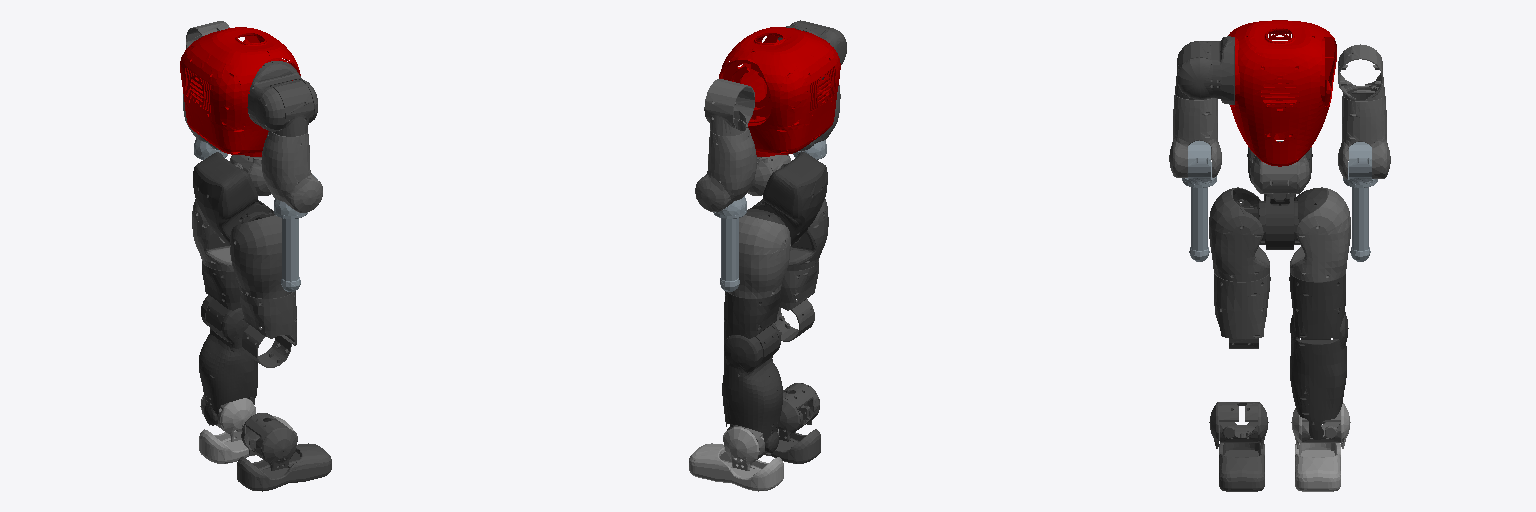
--- Render facts (derived) ---
Views: 3 orthographic renders of the robot side by side, from view 1: azimuth 30°, elevation 25°; view 2: azimuth 150°, elevation 25°; view 3: azimuth 270°, elevation 25°.
Model COMAN with 46 links and 45 joints (23 revolute, 22 fixed), rooted at base_link, posed every joint at zero.
Links seen in each view (by area): view 1: DWYTorso, LLowLeg, Waist, RFoot, RThighUpLeg, RShy, RThighLowLeg, RShp, LFoot, LThighLowLeg, RShr, RElb (+2 smaller); view 2: DWYTorso, LLowLeg, LFoot, Waist, LThighUpLeg, LShy, LThighLowLeg, LShr, RFoot, RThighLowLeg, LElb, RThighUpLeg (+3 smaller); view 3: DWYTorso, LLowLeg, RThighUpLeg, LThighUpLeg, RThighLowLeg, LShy, LThighLowLeg, RShy, RFoot, RShp, LFoot, RElb (+9 smaller).
Boxes of the visible links, x1=… form: DWYTorso: x1=180, y1=27, x2=300, y2=156; LLowLeg: x1=199, y1=295, x2=257, y2=425; Waist: x1=193, y1=152, x2=274, y2=245; RFoot: x1=237, y1=413, x2=331, y2=491; RThighUpLeg: x1=230, y1=215, x2=291, y2=298; RShy: x1=261, y1=129, x2=322, y2=212; RThighLowLeg: x1=239, y1=288, x2=296, y2=367; RShp: x1=247, y1=61, x2=317, y2=131; LFoot: x1=199, y1=395, x2=293, y2=463; LThighLowLeg: x1=202, y1=262, x2=240, y2=338; RShr: x1=270, y1=79, x2=313, y2=136; RElb: x1=274, y1=174, x2=317, y2=291; DWYTorso: x1=719, y1=27, x2=840, y2=156; LLowLeg: x1=722, y1=324, x2=782, y2=452; LFoot: x1=689, y1=427, x2=783, y2=491; Waist: x1=750, y1=152, x2=827, y2=245; LThighUpLeg: x1=729, y1=215, x2=790, y2=298; LShy: x1=695, y1=120, x2=756, y2=211; LThighLowLeg: x1=724, y1=290, x2=780, y2=364; LShr: x1=704, y1=79, x2=754, y2=135; RFoot: x1=727, y1=383, x2=820, y2=463; RThighLowLeg: x1=773, y1=261, x2=818, y2=341; LElb: x1=713, y1=196, x2=746, y2=291; RThighUpLeg: x1=787, y1=199, x2=828, y2=270; DWYTorso: x1=1228, y1=20, x2=1336, y2=166; LLowLeg: x1=1290, y1=312, x2=1348, y2=439; RThighUpLeg: x1=1209, y1=187, x2=1269, y2=281; LThighUpLeg: x1=1290, y1=187, x2=1350, y2=281; RThighLowLeg: x1=1214, y1=273, x2=1270, y2=348; LShy: x1=1338, y1=86, x2=1390, y2=178; LThighLowLeg: x1=1289, y1=273, x2=1345, y2=339; RShy: x1=1169, y1=94, x2=1221, y2=177; RFoot: x1=1209, y1=402, x2=1268, y2=491; RShp: x1=1177, y1=36, x2=1234, y2=104; LFoot: x1=1291, y1=403, x2=1350, y2=491; RElb: x1=1182, y1=141, x2=1216, y2=261.
Size in the robot's own frame: 0.2484 by 0.4296 by 0.9267 metres.
21 mesh visuals loaded from 23 distinct referenced files (20 Collada DAE); not drawn: 3 (reference not matched to a file when rendering).

robot.urdf — COMAN:
<?xml version="1.0" ?>
<!-- =================================================================================== -->
<!-- |    This document was autogenerated by xacro from coman.urdf.xacro               | -->
<!-- |    EDITING THIS FILE BY HAND IS NOT RECOMMENDED                                 | -->
<!-- =================================================================================== -->
<robot name="COMAN" xmlns:xacro="http://ros.org/wiki/xacro">
  <!-- 
  ROS urdf definition of the COMAN humanoid robot by Istituto Italiano di Tecnologia
  
  DO NOT INCLUDE THIS FILE DIRECTLY! USE coman_robot.urdf.xacro INSTEAD!

  Author: Enrico Mingo & Alessio Rocchi

  Inertial matrix has to be in CoM frame (URDF specs)

  Velocity and effort limits are fake!
-->
  <!-- ************ MODEL CONFIGURATION ************ -->
  <!-- ******************** FAKE LINKS ******************** -->
  <!-- This links are defined in order to be compliant with http://www.ros.org/reps/rep-0120.html#coordinate-frames
and to define the end effectors of the robot -->
  <!-- The coordinate frame called base_link is rigidly attached to the robot root body. It is recommended to choose the robot waist as its root body. The base_link can be attached to the root in any arbitrary position or orientation; for every hardware platform there will be a different place on the base that provides an obvious point of reference. Note that REP 103 [1] specifies a preferred orientation for frames. -->
  <link name="base_link"/>
  <!-- position and orientation of the arm regardless of the tool (grasping device for instance) attached to it -->
  <link name="l_wrist"/>
  <link name="r_wrist"/>
  <!--  position and orientation of the leg regardless of the support body geometry -->
  <link name="l_ankle"/>
  <link name="r_ankle"/>
  <!-- position and orientation of the left leg support body. The (X,Y) plane of this frame must be coplanar with the support body contact surface. It is recommended to choose the origin as the projection of the support body origin on the contact surface. The Z coordinate of this frame should be on the ground level when standing. -->
  <link name="l_sole"/>
  <link name="r_sole"/>
  <!--  position and orientation of the leg toe body. The (X,Y) plan of this frame must be coplanar with the toe body contact surface. It is recommended to choose the origin as the projection of the body center on the contact surface. -->
  <link name="l_toe"/>
  <link name="r_toe"/>
  <!-- The coordinate frame called torso is attached to the lowest body of the model which is a parent of l_gripper, r_gripper and gaze. -->
  <link name="torso"/>
  <!-- Reference frames in feet -->
  <link name="l_foot_upper_right_link"/>
  <joint name="l_foot_upper_right_joint" type="fixed">
    <origin rpy="0 0 0" xyz="0.13 -0.05 0"/>
    <parent link="l_sole"/>
    <child link="l_foot_upper_right_link"/>
  </joint>
  <link name="l_foot_upper_left_link"/>
  <joint name="l_foot_upper_left_joint" type="fixed">
    <origin rpy="0 0 0" xyz="0.13 0.05 0"/>
    <parent link="l_sole"/>
    <child link="l_foot_upper_left_link"/>
  </joint>
  <link name="l_foot_lower_right_link"/>
  <joint name="l_foot_lower_right_joint" type="fixed">
    <origin rpy="0 0 0" xyz="-0.07 -0.05 0"/>
    <parent link="l_sole"/>
    <child link="l_foot_lower_right_link"/>
  </joint>
  <link name="l_foot_lower_left_link"/>
  <joint name="l_foot_lower_left_joint" type="fixed">
    <origin rpy="0 0 0" xyz="-0.07 0.05 0"/>
    <parent link="l_sole"/>
    <child link="l_foot_lower_left_link"/>
  </joint>
  <link name="r_foot_upper_right_link"/>
  <joint name="r_foot_upper_right_joint" type="fixed">
    <origin rpy="0 0 0" xyz="0.13 -0.05 0"/>
    <parent link="r_sole"/>
    <child link="r_foot_upper_right_link"/>
  </joint>
  <link name="r_foot_upper_left_link"/>
  <joint name="r_foot_upper_left_joint" type="fixed">
    <origin rpy="0 0 0" xyz="0.13 0.05 0"/>
    <parent link="r_sole"/>
    <child link="r_foot_upper_left_link"/>
  </joint>
  <link name="r_foot_lower_right_link"/>
  <joint name="r_foot_lower_right_joint" type="fixed">
    <origin rpy="0 0 0" xyz="-0.07 -0.05 0"/>
    <parent link="r_sole"/>
    <child link="r_foot_lower_right_link"/>
  </joint>
  <link name="r_foot_lower_left_link"/>
  <joint name="r_foot_lower_left_joint" type="fixed">
    <origin rpy="0 0 0" xyz="-0.07 0.05 0"/>
    <parent link="r_sole"/>
    <child link="r_foot_lower_left_link"/>
  </joint>
  <!-- Head -->
  <link name="gaze"/>
  <!-- ************ COMAN BASE ************** -->
  <link name="Waist">
    <inertial>
      <origin rpy="0 0 0" xyz="-0.026391145 -5.8216364E-4 0.052632312"/>
      <mass value="1.8008695"/>
      <inertia ixx="0.0051032982" ixy="-5.7170981E-5" ixz="0.0016920543" iyy="0.006241636" iyz="1.7225949E-5" izz="0.0024517762"/>
    </inertial>
    <visual>
      <origin rpy="0 0 -3.14159265359" xyz="0 0 -0.52"/>
      <geometry name="Waist_visual">
        <mesh filename="package://coman_urdf/meshes/collada/asm0001_collada_07_prt.dae" scale="0.03937 0.03937 0.03937"/>
      </geometry>
    </visual>
    <collision>
      <origin rpy="0 0 -3.14159265359" xyz="0 0 -0.52"/>
      <geometry name="Waist_collision">
        <mesh filename="package://coman_urdf/meshes/collada/simple/simple_asm0001_collada_07_prt.stl" scale="0.03937 0.03937 0.03937"/>
      </geometry>
    </collision>
  </link>
  <link name="DWL">
    <inertial>
      <origin rpy="0 0 0" xyz="4.2999707E-4 -0.0097650317 0.033011157"/>
      <mass value="0.54588774"/>
      <inertia ixx="9.7126578E-4" ixy="-7.2101244E-7" ixz="1.1440119E-6" iyy="7.4686706E-4" iyz="-1.7450917E-4" izz="6.2196235E-4"/>
    </inertial>
    <visual>
      <origin rpy="0 0 -3.14159265359" xyz="-0.020281504 0 -0.63912053"/>
      <geometry name="DWL_visual">
        <mesh filename="package://coman_urdf/meshes/collada/asm0001_collada_09_prt.dae" scale="0.03937 0.03937 0.03937"/>
      </geometry>
    </visual>
    <collision>
      <origin rpy="0 0 -3.14159265359" xyz="-0.020281504 0 -0.63912053"/>
      <geometry name="DWL_collision">
        <mesh filename="package://coman_urdf/meshes/collada/simple/simple_asm0001_collada_09_prt.stl" scale="0.03937 0.03937 0.03937"/>
      </geometry>
    </collision>
  </link>
  <link name="DWS">
    <inertial>
      <origin rpy="0 0 0" xyz="-0.0021273416 0.0033575235 -0.0010076896"/>
      <mass value="0.75398402"/>
      <inertia ixx="3.4093348E-4" ixy="-6.2120042E-6" ixz="-1.3863473E-6" iyy="3.9581916E-4" iyz="1.443019E-6" izz="3.7449753E-4"/>
    </inertial>
    <visual>
      <origin rpy="0 0 -3.14159265359" xyz="-0.020281504 0 -0.63912053"/>
      <geometry name="DWS_visual">
        <mesh filename="package://coman_urdf/meshes/collada/asm0001_collada_08_prt.dae" scale="0.03937 0.03937 0.03937"/>
      </geometry>
    </visual>
    <collision>
      <origin rpy="0 0 -3.14159265359" xyz="-0.020281504 0 -0.63912053"/>
      <geometry name="DWS_collision">
        <mesh filename="package://coman_urdf/meshes/collada/simple/simple_asm0001_collada_08_prt.stl" scale="0.03937 0.03937 0.03937"/>
      </geometry>
    </collision>
  </link>
  <link name="DWYTorso">
    <inertial>
      <origin rpy="0 0 0" xyz="-0.0358501 1.8286043E-5 0.117557148"/>
      <mass value="6.3617175"/>
      <inertia ixx="0.034089342" ixy="-9.8308572E-6" ixz="-7.5649290E-4" iyy="0.030117357" iyz="6.2443771E-6" izz="0.025296582"/>
    </inertial>
    <visual>
      <origin rpy="0 0 -3.14159265359" xyz="-0.020281504 0.0 -0.68662053"/>
      <geometry name="DWYTorso_visual">
        <mesh filename="package://coman_urdf/meshes/collada/asm0001_collada_10_prt.dae" scale="0.03937 0.03937 0.03937"/>
      </geometry>
    </visual>
    <collision>
      <origin rpy="0 0 -3.14159265359" xyz="-0.020281504 0.0 -0.68662053"/>
      <geometry name="DWYTorso_collision">
        <mesh filename="package://coman_urdf/meshes/collada/simple/simple_asm0001_collada_10_prt.stl" scale="0.03937 0.03937 0.03937"/>
      </geometry>
    </collision>
  </link>
  <link name="RHipMot">
    <inertial>
      <origin rpy="0 0 0" xyz="-3.269678E-4 -0.023587321 -2.6496509E-4"/>
      <mass value="0.89258227"/>
      <inertia ixx="4.7672294E-4" ixy="-3.9936567E-6" ixz="-2.4802574E-6" iyy="5.458038E-4" iyz="-3.3389575E-6" izz="5.126859E-4"/>
    </inertial>
    <visual>
      <origin rpy="0 0 -3.14159265359" xyz="0.0 0.023 -0.52"/>
      <geometry name="RHipMot_visual">
        <mesh filename="package://coman_urdf/meshes/collada/asm0001_collada_20_prt.dae" scale="0.03937 0.03937 0.03937"/>
      </geometry>
    </visual>
    <collision>
      <origin rpy="0 0 -3.14159265359" xyz="0.0 0.023 -0.52"/>
      <geometry name="RHipMot_collision">
        <mesh filename="package://coman_urdf/meshes/collada/simple/simple_asm0001_collada_20_prt.stl" scale="0.03937 0.03937 0.03937"/>
      </geometry>
    </collision>
  </link>
  <link name="RThighUpLeg">
    <inertial>
      <origin rpy="0 0 0" xyz="0.0012591632 -0.016896372 -0.058903336"/>
      <mass value="1.0246101"/>
      <inertia ixx="9.165719E-4" ixy="-1.4449904E-6" ixz="-1.6685011E-5" iyy="0.00104849584" iyz="2.5492874E-5" izz="6.8637197E-4"/>
    </inertial>
    <visual>
      <origin rpy="0 0 -3.14159265359" xyz="0.0 0.0726 -0.52"/>
      <geometry name="RThighUpLeg_visual">
        <mesh filename="package://coman_urdf/meshes/collada/asm0001_collada_19_prt.dae" scale="0.03937 0.03937 0.03937"/>
      </geometry>
    </visual>
    <collision>
      <origin rpy="0 0 -3.14159265359" xyz="0.0 0.0726 -0.52"/>
      <geometry name="RThighUpLeg_collision">
        <mesh filename="package://coman_urdf/meshes/collada/simple/simple_asm0001_collada_19_prt.stl" scale="0.03937 0.03937 0.03937"/>
      </geometry>
    </collision>
  </link>
  <link name="RThighLowLeg">
    <inertial>
      <origin rpy="0 0 0" xyz="9.8720058E-4 6.7037262E-4 -0.075716843"/>
      <mass value="1.7001134"/>
      <inertia ixx="0.0038979546" ixy="1.7802399E-6" ixz="2.6403262E-5" iyy="0.0039360845" iyz="4.522711E-5" izz="9.0218711E-4"/>
    </inertial>
    <visual>
      <origin rpy="0 0 -3.14159265359" xyz="0.0 0.0726 -0.4176"/>
      <geometry name="RThighLowLeg_visual">
        <mesh filename="package://coman_urdf/meshes/collada/asm0001_collada_18_prt.dae" scale="0.03937 0.03937 0.03937"/>
      </geometry>
    </visual>
    <collision>
      <origin rpy="0 0 -3.14159265359" xyz="0.0 0.0726 -0.4176"/>
      <geometry name="RThighLowLeg_collision">
        <mesh filename="package://coman_urdf/meshes/collada/simple/simple_asm0001_collada_18_prt.stl" scale="0.03937 0.03937 0.03937"/>
      </geometry>
    </collision>
  </link>
  <link name="RLowLeg">
    <inertial>
      <origin rpy="0 0 0" xyz="0.0024612666 -0.0053099614 -0.08598948"/>
      <mass value="1.4098179"/>
      <inertia ixx="0.0040604004" ixy="1.1227206E-5" ixz="1.2260973E-5" iyy="0.004005652855" iyz="5.1899176E-4" izz="0.0012414054"/>
    </inertial>
    <visual>
      <origin rpy="0 0 -3.14159265359" xyz="0.0 0.0726 -0.2942"/>
      <geometry name="RLowLeg_visual">
        <mesh filename="package://coman_urdf/meshes/collada/asm0001_collada_17_prt.dae" scale="0.03937 0.03937 0.03937"/>
      </geometry>
    </visual>
    <collision>
      <origin rpy="0 0 -3.14159265359" xyz="0.0 0.0726 -0.2942"/>
      <geometry name="RLowLeg_collision">
        <mesh filename="package://coman_urdf/meshes/collada/simple/simple_asm0001_collada_17_prt.stl" scale="0.03937 0.03937 0.03937"/>
      </geometry>
    </collision>
  </link>
  <link name="RFootmot">
    <inertial>
      <origin rpy="0 0 0" xyz="8.8067281E-4 -9.2224881E-4 2.3038476E-4"/>
      <mass value="0.72992131"/>
      <inertia ixx="3.2034425E-4" ixy="7.6346303E-6" ixz="2.5430158E-7" iyy="3.6584358E-4" iyz="-3.6889276E-6" izz="3.6065156E-4"/>
    </inertial>
    <visual>
      <origin rpy="0 0 -3.14159265359" xyz="0.0 0.0726 -0.0932"/>
      <geometry name="RFootmot_visual">
        <mesh filename="package://coman_urdf/meshes/collada/asm0001_collada_16_prt.dae" scale="0.03937 0.03937 0.03937"/>
      </geometry>
    </visual>
    <collision>
      <origin rpy="0 0 -3.14159265359" xyz="0.0 0.0726 -0.0932"/>
      <geometry name="RFootmot_collision">
        <mesh filename="package://coman_urdf/meshes/collada/simple/simple_asm0001_collada_16_prt.stl" scale="0.03937 0.03937 0.03937"/>
      </geometry>
    </collision>
  </link>
  <link name="RFoot">
    <inertial>
      <origin rpy="0 0 0" xyz="0.00969210464 -0.0090460227 -0.043062308"/>
      <mass value="0.66646684"/>
      <inertia ixx="0.0012944808" ixy="-9.2387693E-5" ixz="2.0080105E-4" iyy="0.0015851846" iyz="2.7599327E-4" izz="0.0013326766"/>
    </inertial>
    <visual>
      <origin rpy="0 0 -3.14159265359" xyz="0.0 0.0726 -0.0932"/>
      <geometry name="RFoot_visual">
        <mesh filename="package://coman_urdf/meshes/collada/asm0001_collada_15_prt.dae" scale="0.03937 0.03937 0.03937"/>
      </geometry>
    </visual>
    <collision>
      <origin rpy="0 0 -3.14159265359" xyz="0.0 0.0726 -0.0932"/>
      <geometry name="RFoot_collision">
        <mesh filename="package://coman_urdf/meshes/collada/simple/simple_asm0001_collada_15_prt.stl" scale="0.03937 0.03937 0.03937"/>
      </geometry>
    </collision>
  </link>
  <link name="LHipMot">
    <inertial>
      <origin rpy="0 0 0" xyz="-3.269678E-4 0.023587321 -2.6496509E-4"/>
      <mass value="0.89258227"/>
      <inertia ixx="4.7672294E-4" ixy="3.9936567E-6" ixz="-2.4802574E-6" iyy="5.458038E-4" iyz="3.3389575E-6" izz="5.126859E-4"/>
    </inertial>
    <visual>
      <origin rpy="0 0 -3.14159265359" xyz="0.0 -0.023 -0.52"/>
      <geometry name="RHipMot_visual">
        <mesh filename="package://coman_urdf/meshes/collada/asm0001_collada_06_prt.dae" scale="0.03937 0.03937 0.03937"/>
      </geometry>
    </visual>
    <collision>
      <origin rpy="0 0 -3.14159265359" xyz="0.0 -0.023 -0.52"/>
      <geometry name="RHipMot_collision">
        <mesh filename="package://coman_urdf/meshes/collada/simple/simple_asm0001_collada_06_prt.stl" scale="0.03937 0.03937 0.03937"/>
      </geometry>
    </collision>
  </link>
  <link name="LThighUpLeg">
    <inertial>
      <origin rpy="0 0 0" xyz="0.0012591632 0.016896372 -0.058903336"/>
      <mass value="1.0246101"/>
      <inertia ixx="9.165719E-4" ixy="1.4449904E-6" ixz="-1.6685011E-5" iyy="0.00104849584" iyz="-2.5492874E-5" izz="6.8637197E-4"/>
    </inertial>
    <visual>
      <origin rpy="0 0 -3.14159265359" xyz="0.0 -0.0726 -0.52"/>
      <geometry name="LThighUpLeg_visual">
        <mesh filename="package://coman_urdf/meshes/collada/asm0001_collada_05_prt.dae" scale="0.03937 0.03937 0.03937"/>
      </geometry>
    </visual>
    <collision>
      <origin rpy="0 0 -3.14159265359" xyz="0.0 -0.0726 -0.52"/>
      <geometry name="LThighUpLeg_collision">
        <mesh filename="package://coman_urdf/meshes/collada/simple/simple_asm0001_collada_05_prt.stl" scale="0.03937 0.03937 0.03937"/>
      </geometry>
    </collision>
  </link>
  <link name="LThighLowLeg">
    <inertial>
      <origin rpy="0 0 0" xyz="9.8720058E-4 -6.7037262E-4 -0.075716843"/>
      <mass value="1.7001134"/>
      <inertia ixx="0.0038979546" ixy="-1.7802399E-6" ixz="2.6403262E-5" iyy="0.0039360845" iyz="-4.5227110E-5" izz="9.0218711E-4"/>
    </inertial>
    <visual>
      <origin rpy="0 0 -3.14159265359" xyz="0.0 -0.0726 -0.4176"/>
      <geometry name="LThighLowLeg_visual">
        <mesh filename="package://coman_urdf/meshes/collada/asm0001_collada_04_prt.dae" scale="0.03937 0.03937 0.03937"/>
      </geometry>
    </visual>
    <collision>
      <origin rpy="0 0 -3.14159265359" xyz="0.0 -0.0726 -0.4176"/>
      <geometry name="LThighLowLeg_collision">
        <mesh filename="package://coman_urdf/meshes/collada/simple/simple_asm0001_collada_04_prt.stl" scale="0.03937 0.03937 0.03937"/>
      </geometry>
    </collision>
  </link>
  <link name="LLowLeg">
    <inertial>
      <origin rpy="0 0 0" xyz="0.0024612666 0.0053099614 -0.085989484"/>
      <mass value="1.4098179"/>
      <inertia ixx="0.0040604004" ixy="-1.1227206E-5" ixz="1.2260973E-5" iyy="0.004005652855" iyz="-5.1899176E-4" izz="0.0012414054"/>
    </inertial>
    <visual>
      <origin rpy="0 0 -3.14159265359" xyz="0.0 -0.0726 -0.2942"/>
      <geometry name="LLowLeg_visual">
        <mesh filename="package://coman_urdf/meshes/collada/asm0001_collada_03_prt.dae" scale="0.03937 0.03937 0.03937"/>
      </geometry>
    </visual>
    <collision>
      <origin rpy="0 0 -3.14159265359" xyz="0.0 -0.0726 -0.2942"/>
      <geometry name="LLowLeg_collision">
        <mesh filename="package://coman_urdf/meshes/collada/simple/simple_asm0001_collada_03_prt.stl" scale="0.03937 0.03937 0.03937"/>
      </geometry>
    </collision>
  </link>
  <link name="LFootmot">
    <inertial>
      <origin rpy="0 0 0" xyz="8.8067281E-4 9.2224881E-4 2.3038476E-4"/>
      <mass value="0.72992131"/>
      <inertia ixx="3.2034425E-4" ixy="-7.6346303E-6" ixz="2.5430158E-7" iyy="3.6584358E-4" iyz="3.6889276E-6" izz="3.6065156E-4"/>
    </inertial>
    <visual>
      <origin rpy="0 0 -3.14159265359" xyz="0.0 -0.0726 -0.0932"/>
      <geometry name="LFootmot_visual">
        <mesh filename="package://coman_urdf/meshes/collada/asm0001_collada_02_prt.dae" scale="0.03937 0.03937 0.03937"/>
      </geometry>
    </visual>
    <collision>
      <origin rpy="0 0 -3.14159265359" xyz="0.0 -0.0726 -0.0932"/>
      <geometry name="LFootmot_collision">
        <mesh filename="package://coman_urdf/meshes/collada/simple/simple_asm0001_collada_02_prt.stl" scale="0.03937 0.03937 0.03937"/>
      </geometry>
    </collision>
  </link>
  <link name="LFoot">
    <inertial>
      <origin rpy="0 0 0" xyz="0.0096921046 0.0090460227 -0.043062308"/>
      <mass value="0.66646684"/>
      <inertia ixx="0.0012944808" ixy="9.2387693E-5" ixz="2.0080105E-4" iyy="0.0015851846" iyz="-2.7599327E-4" izz="0.0013326766"/>
    </inertial>
    <visual>
      <origin rpy="0 0 -3.14159265359" xyz="0.0 -0.0726 -0.0932"/>
      <geometry name="LFoot_visual">
        <mesh filename="package://coman_urdf/meshes/collada/asm0001_collada_01_prt.dae" scale="0.03937 0.03937 0.03937"/>
      </geometry>
    </visual>
    <collision>
      <origin rpy="0 0 -3.14159265359" xyz="0.0 -0.0726 -0.0932"/>
      <geometry name="LFoot_collision">
        <mesh filename="package://coman_urdf/meshes/collada/simple/simple_asm0001_collada_01_prt.stl" scale="0.03937 0.03937 0.03937"/>
      </geometry>
    </collision>
  </link>
  <link name="RShp">
    <inertial>
      <origin rpy="0 0 0" xyz="0.0099500565 -0.038682024 1.6446924E-4"/>
      <mass value="0.56782202"/>
      <inertia ixx="7.8337456E-4" ixy="1.9035768E-4" ixz="-3.0037676E-6" iyy="6.3399921E-4" iyz="4.3840774E-6" izz="0.001008054"/>
    </inertial>
    <visual>
      <origin rpy="0 0 -3.14159265359" xyz="-0.005305 0.0825 -0.844329"/>
      <geometry name="RShp_visual">
        <mesh filename="package://coman_urdf/meshes/collada/asm0001_collada_24_prt.dae" scale="0.03937 0.03937 0.03937"/>
      </geometry>
    </visual>
    <collision>
      <origin rpy="0 0 -3.14159265359" xyz="-0.005305 0.0825 -0.844329"/>
      <geometry name="RShp_collision">
        <mesh filename="package://coman_urdf/meshes/collada/simple/simple_asm0001_collada_24_prt.stl" scale="0.03937 0.03937 0.03937"/>
      </geometry>
    </collision>
  </link>
  <link name="RShr">
    <inertial>
      <origin rpy="0 0 0" xyz="-0.0038936743 2.2022151E-6 -0.0048616005"/>
      <mass value="0.77683752"/>
      <inertia ixx="4.5812904E-4" ixy="-2.4111086E-7" ixz="9.2521185E-6" iyy="4.3089204E-4" iyz="-4.7216950E-7" izz="3.4174855E-4"/>
    </inertial>
    <visual>
      <origin rpy="0 0 -3.14159265359" xyz="-0.005305 0.1558 -0.844329"/>
      <geometry name="RShr_visual">
        <mesh filename="package://coman_urdf/meshes/collada/asm0001_collada_23_prt.dae" scale="0.03937 0.03937 0.03937"/>
      </geometry>
    </visual>
    <collision>
      <origin rpy="0 0 -3.14159265359" xyz="-0.005305 0.1558 -0.844329"/>
      <geometry name="RShr_collision">
        <mesh filename="package://coman_urdf/meshes/collada/simple/simple_asm0001_collada_23_prt.stl" scale="0.03937 0.03937 0.03937"/>
      </geometry>
    </collision>
  </link>
  <link name="RShy">
    <inertial>
      <origin rpy="0 0 0" xyz="0.0022714213 -0.0071091517 -0.057455221"/>
      <mass value="1.0462304"/>
      <inertia ixx="0.0030934574" ixy="6.6702837E-5" ixz="3.0222291E-4" iyy="0.0029181573" iyz="-5.2663661E-4" izz="8.0830389E-4"/>
    </inertial>
    <visual>
      <origin rpy="0 0 -3.14159265359" xyz="-0.005305 0.1558 -0.79952053"/>
      <geometry name="RShy_visual">
        <mesh filename="package://coman_urdf/meshes/collada/asm0001_collada_22_prt.dae" scale="0.03937 0.03937 0.03937"/>
      </geometry>
    </visual>
    <collision>
      <origin rpy="0 0 -3.14159265359" xyz="-0.005305 0.1558 -0.79952053"/>
      <geometry name="RShy_collision">
        <mesh filename="package://coman_urdf/meshes/collada/simple/simple_asm0001_collada_22_prt.stl" scale="0.03937 0.03937 0.03937"/>
      </geometry>
    </collision>
  </link>
  <link name="LShp">
    <inertial>
      <origin rpy="0 0 0" xyz="0.0099500565 0.038682024 1.6446924E-4"/>
      <mass value="0.56782202"/>
      <inertia ixx="7.8337456E-4" ixy="-1.9035768E-4" ixz="-3.0037676E-6" iyy="6.3399921E-4" iyz="-4.3840774E-6" izz="0.001008054"/>
    </inertial>
    <visual>
      <origin rpy="0 0 -3.14159265359" xyz="-0.005305 -0.0825 -0.844329"/>
      <geometry name="LShp_visual">
        <mesh filename="package://coman_urdf/meshes/collada/asm0001_collada_14_prt.dae" scale="0.03937 0.03937 0.03937"/>
      </geometry>
    </visual>
    <collision>
      <origin rpy="0 0 -3.14159265359" xyz="-0.005305 -0.0825 -0.844329"/>
      <geometry name="LShp_collision">
        <mesh filename="package://coman_urdf/meshes/collada/simple/simple_asm0001_collada_14_prt.stl" scale="0.03937 0.03937 0.03937"/>
      </geometry>
    </collision>
  </link>
  <link name="LShr">
    <inertial>
      <origin rpy="0 0 0" xyz="-0.0038936743 -2.2022151E-6 -0.0048616005"/>
      <mass value="0.77683752"/>
      <inertia ixx="4.5812904E-4" ixy="2.4111086E-7" ixz="9.2521185E-6" iyy="4.3089204E-4" iyz="4.721695E-7" izz="3.4174855E-4"/>
    </inertial>
    <visual>
      <origin rpy="0 0 -3.14159265359" xyz="-0.005305 -0.1558 -0.844329"/>
      <geometry name="LShr_visual">
        <mesh filename="package://coman_urdf/meshes/collada/asm0001_collada_13_prt.dae" scale="0.03937 0.03937 0.03937"/>
      </geometry>
    </visual>
    <collision>
      <origin rpy="0 0 -3.14159265359" xyz="-0.005305 -0.1558 -0.844329"/>
      <geometry name="LShr_collision">
        <mesh filename="package://coman_urdf/meshes/collada/simple/simple_asm0001_collada_13_prt.stl" scale="0.03937 0.03937 0.03937"/>
      </geometry>
    </collision>
  </link>
  <link name="LShy">
    <inertial>
      <origin rpy="0 0 0" xyz="0.0022714213 0.0071091517 -0.057455221"/>
      <mass value="1.0462304"/>
      <inertia ixx="0.0030934574" ixy="-6.6702837E-5" ixz="3.0222291E-4" iyy="0.0029181573" iyz="5.2663661E-4" izz="8.0830389E-4"/>
    </inertial>
    <visual>
      <origin rpy="0 0 -3.14159265359" xyz="-0.005305 -0.1558 -0.79952053"/>
      <geometry name="LShy_visual">
        <mesh filename="package://coman_urdf/meshes/collada/asm0001_collada_12_prt.dae" scale="0.03937 0.03937 0.03937"/>
      </geometry>
    </visual>
    <collision>
      <origin rpy="0 0 -3.14159265359" xyz="-0.005305 -0.1558 -0.79952053"/>
      <geometry name="LShy_collision">
        <mesh filename="package://coman_urdf/meshes/collada/simple/simple_asm0001_collada_12_prt.stl" scale="0.03937 0.03937 0.03937"/>
      </geometry>
    </collision>
  </link>
  <joint name="base_joint" type="fixed">
    <parent link="base_link"/>
    <child link="Waist"/>
    <origin rpy="0 0 0" xyz="0 0 0"/>
  </joint>
  <joint name="l_ankle_joint" type="fixed">
    <parent link="LFoot"/>
    <child link="l_ankle"/>
    <origin rpy="0 0 0" xyz="0 0 0"/>
  </joint>
  <joint name="r_ankle_joint" type="fixed">
    <parent link="RFoot"/>
    <child link="r_ankle"/>
    <origin rpy="0 0 0" xyz="0 0 0"/>
  </joint>
  <joint name="l_sole_joint" type="fixed">
    <parent link="LFoot"/>
    <child link="l_sole"/>
    <origin rpy="0 0 0" xyz="0 0 -0.09"/>
  </joint>
  <joint name="r_sole_joint" type="fixed">
    <parent link="RFoot"/>
    <child link="r_sole"/>
    <origin rpy="0 0 0" xyz="0 0 -0.09"/>
  </joint>
  <joint name="l_toe_joint" type="fixed">
    <parent link="l_sole"/>
    <child link="l_toe"/>
    <origin rpy="0 0 0" xyz="0.13 0 0"/>
  </joint>
  <joint name="r_toe_joint" type="fixed">
    <parent link="r_sole"/>
    <child link="r_toe"/>
    <origin rpy="0 0 0" xyz="0.13 0 0"/>
  </joint>
  <joint name="torso_joint" type="fixed">
    <parent link="DWYTorso"/>
    <child link="torso"/>
    <origin rpy="0 0 0" xyz="-0.014976503999999998 0 0.15770847"/>
  </joint>
  <joint name="gaze_joint" type="fixed">
    <parent link="torso"/>
    <child link="gaze"/>
    <origin rpy="0 0 0" xyz="0 0 0.1"/>
  </joint>
  <joint name="WaistLat" type="revolute">
    <!-- Wrong name! need to fix this... -->
    <parent link="Waist"/>
    <child link="DWL"/>
    <origin rpy="0 0 0" xyz="0.020281504 0 0.11912053"/>
    <axis xyz="0.939692608 0 0.3420201433"/>
    <limit effort="50" lower="-0.5236" upper="0.5235" velocity="4.0"/>
    <!-- dynamics friction="0" damping="0.3"/ -->
    <dynamics damping="3.0" friction="0"/>
  </joint>
  <joint name="WaistSag" type="revolute">
    <!-- Wrong name! need to fix this... -->
    <parent link="DWL"/>
    <child link="DWS"/>
    <origin rpy="0 0 0" xyz="0 0 0"/>
    <axis xyz="0 1 0"/>
    <limit effort="50" lower="-0.3491" upper="0.8727" velocity="4.0"/>
    <dynamics damping="3.0" friction="0"/>
  </joint>
  <joint name="WaistYaw" type="revolute">
    <parent link="DWS"/>
    <child link="DWYTorso"/>
    <origin rpy="0 0 0" xyz="0 0 0.04749999"/>
    <axis xyz="0 0 1"/>
    <limit effort="50" lower="-1.3963" upper="1.3962" velocity="4.0"/>
    <dynamics damping="3.0" friction="0"/>
  </joint>
  <joint name="RHipSag" type="revolute">
    <parent link="Waist"/>
    <child link="RHipMot"/>
    <origin rpy="0 0 0" xyz="0.0 -0.023 0.0"/>
    <axis xyz="0 1 0"/>
    <limit effort="50" lower="-1.9199" upper="0.7854" velocity="4.0"/>
    <dynamics damping="3.0" friction="0"/>
  </joint>
  <joint name="RHipLat" type="revolute">
    <parent link="RHipMot"/>
    <child link="RThighUpLeg"/>
    <origin rpy="0 0 0" xyz="0.0 -0.0496 0.0"/>
    <axis xyz="1 0 0"/>
    <limit effort="50" lower="-1.0472" upper="0.4363" velocity="4.0"/>
    <dynamics damping="3.0" friction="0"/>
  </joint>
  <joint name="RHipYaw" type="revolute">
    <parent link="RThighUpLeg"/>
    <child link="RThighLowLeg"/>
    <origin rpy="0 0 0" xyz="0.0 0.0 -0.1024"/>
    <axis xyz="0 0 1"/>
    <limit effort="50" lower="-0.8727" upper="0.8727" velocity="4.0"/>
    <dynamics damping="3.0" friction="0"/>
  </joint>
  <joint name="RKneeSag" type="revolute">
    <parent link="RThighLowLeg"/>
    <child link="RLowLeg"/>
    <origin rpy="0 0 0" xyz="0.0 0.0 -0.1234"/>
    <axis xyz="0 1 0"/>
    <limit effort="50" lower="-0.1745" upper="1.9199" velocity="4.0"/>
    <dynamics damping="3.0" friction="0"/>
  </joint>
  <joint name="RAnkLat" type="revolute">
    <parent link="RLowLeg"/>
    <child link="RFootmot"/>
    <origin rpy="0 0 0" xyz="0.0 0.0 -0.201"/>
    <axis xyz="1 0 0"/>
    <limit effort="50" lower="-0.6109" upper="0.6109" velocity="4.0"/>
    <dynamics damping="3.0" friction="0"/>
  </joint>
  <joint name="RAnkSag" type="revolute">
    <parent link="RFootmot"/>
    <child link="RFoot"/>
    <origin rpy="0 0 0" xyz="0.0 0.0 0.0"/>
    <axis xyz="0 1 0"/>
    <limit effort="50" lower="-1.2217" upper="1.2217" velocity="4.0"/>
    <dynamics damping="3.0" friction="0"/>
  </joint>
  <joint name="LHipSag" type="revolute">
    <parent link="Waist"/>
    <child link="LHipMot"/>
    <origin rpy="0 0 0" xyz="0.0 0.023 0.0"/>
    <axis xyz="0 1 0"/>
    <limit effort="50" lower="-1.9199" upper="0.7854" velocity="4.0"/>
    <dynamics damping="3.0" friction="0"/>
  </joint>
  <joint name="LHipLat" type="revolute">
    <parent link="LHipMot"/>
    <child link="LThighUpLeg"/>
    <origin rpy="0 0 0" xyz="0.0 0.0496 0.0"/>
    <axis xyz="1 0 0"/>
    <limit effort="50" lower="-0.4363" upper="1.0472" velocity="4.0"/>
    <dynamics damping="3.0" friction="0"/>
  </joint>
  <joint name="LHipYaw" type="revolute">
    <parent link="LThighUpLeg"/>
    <child link="LThighLowLeg"/>
    <origin rpy="0 0 0" xyz="0.0 0.0 -0.1024"/>
    <axis xyz="0 0 1"/>
    <limit effort="50" lower="-0.8727" upper="0.8727" velocity="4.0"/>
    <dynamics damping="3.0" friction="0"/>
  </joint>
  <joint name="LKneeSag" type="revolute">
    <parent link="LThighLowLeg"/>
    <child link="LLowLeg"/>
    <origin rpy="0 0 0" xyz="0.0 0.0 -0.1234"/>
    <axis xyz="0 1 0"/>
    <limit effort="50" lower="-0.1745" upper="1.9199" velocity="4.0"/>
    <dynamics damping="3.0" friction="0"/>
  </joint>
  <joint name="LAnkLat" type="revolute">
    <parent link="LLowLeg"/>
    <child link="LFootmot"/>
    <origin rpy="0 0 0" xyz="0.0 0.0 -0.201"/>
    <axis xyz="1 0 0"/>
    <limit effort="50" lower="-0.6109" upper="0.6109" velocity="4.0"/>
    <dynamics damping="3.0" friction="0"/>
  </joint>
  <joint name="LAnkSag" type="revolute">
    <parent link="LFootmot"/>
    <child link="LFoot"/>
    <origin rpy="0 0 0" xyz="0.0 0.0 0.0"/>
    <axis xyz="0 1 0"/>
    <limit effort="50" lower="-1.2217" upper="1.2217" velocity="4.0"/>
    <dynamics damping="3.0" friction="0"/>
  </joint>
  <joint name="RShSag" type="revolute">
    <parent link="DWYTorso"/>
    <child link="RShp"/>
    <origin rpy="0 0 0" xyz="-0.014976503999999998 -0.0825 0.15770847"/>
    <axis xyz="0 1 0"/>
    <limit effort="50" lower="-3.4034" upper="1.6581" velocity="4.0"/>
    <dynamics damping="3.0" friction="0"/>
  </joint>
  <joint name="RShLat" type="revolute">
    <parent link="RShp"/>
    <child link="RShr"/>
    <origin rpy="0 0 0" xyz="0.0 -0.07329999999999999 0.0"/>
    <axis xyz="1 0 0"/>
    <limit effort="50" lower="-2.094" upper="0.31415" velocity="4.0"/>
    <dynamics damping="3.0" friction="0"/>
  </joint>
  <joint name="RShYaw" type="revolute">
    <parent link="RShr"/>
    <child link="RShy"/>
    <origin rpy="0 0 0" xyz="0.0 0.0 -0.04480846999999999"/>
    <axis xyz="0 0 1"/>
    <limit effort="50" lower="-1.5708" upper="1.5708" velocity="4.0"/>
    <dynamics damping="3.0" friction="0"/>
  </joint>
  <joint name="RElbj" type="revolute">
    <parent link="RShy"/>
    <child link="RElb"/>
    <origin rpy="0 0 0" xyz="0.015 0.0 -0.13519152999999998"/>
    <axis xyz="0 1 0"/>
    <limit effort="50" lower="-2.3562" upper="0.0" velocity="4.0"/>
    <dynamics damping="3.0" friction="0"/>
  </joint>
  <joint name="LShSag" type="revolute">
    <parent link="DWYTorso"/>
    <child link="LShp"/>
    <origin rpy="0 0 0" xyz="-0.014976503999999998 0.0825 0.15770847"/>
    <axis xyz="0 1 0"/>
    <limit effort="50" lower="-3.4034" upper="1.6581" velocity="4.0"/>
    <dynamics damping="3.0" friction="0"/>
  </joint>
  <joint name="LShLat" type="revolute">
    <parent link="LShp"/>
    <child link="LShr"/>
    <origin rpy="0 0 0" xyz="0.0 0.07329999999999999 0.0"/>
    <axis xyz="1 0 0"/>
    <limit effort="50" lower="-0.31415" upper="2.094" velocity="4.0"/>
    <dynamics damping="3.0" friction="0"/>
  </joint>
  <joint name="LShYaw" type="revolute">
    <parent link="LShr"/>
    <child link="LShy"/>
    <origin rpy="0 0 0" xyz="0.0 0.0 -0.04480846999999999"/>
    <axis xyz="0 0 1"/>
    <limit effort="50" lower="-1.5708" upper="1.5708" velocity="4.0"/>
    <dynamics damping="3.0" friction="0"/>
  </joint>
  <joint name="LElbj" type="revolute">
    <parent link="LShy"/>
    <child link="LElb"/>
    <origin rpy="0 0 0" xyz="0.015 0.0 -0.13519152999999998"/>
    <axis xyz="0 1 0"/>
    <limit effort="50" lower="-2.3562" upper="0.0" velocity="4.0"/>
    <dynamics damping="3.0" friction="0"/>
  </joint>
  <!-- ************ FOREARMS ************ -->
  <link name="LElb">
    <inertial>
      <origin rpy="0 0 0" xyz="-6.5553403E-4 9.3464748E-4 -9.3101289E-4"/>
      <mass value="0.63306933"/>
      <inertia ixx="2.2599075E-4" ixy="2.637647E-7" ixz="-9.8007285E-6" iyy="2.7781302E-4" iyz="2.0435288E-6" izz="2.1878992E-4"/>
    </inertial>
    <visual>
      <origin rpy="0 0 -3.14159265359" xyz="-0.020305 -0.1558 -0.664329"/>
      <geometry name="LElb_visual">
        <mesh filename="package://coman_urdf/meshes/collada/asm0001_collada_11_prt.dae" scale="0.03937 0.03937 0.03937"/>
      </geometry>
    </visual>
    <collision>
      <origin rpy="0 0 -3.14159265359" xyz="-0.020305 -0.1558 -0.664329"/>
      <geometry name="LElb_collision">
        <mesh filename="package://coman_urdf/meshes/collada/simple/simple_asm0001_collada_11_prt.stl" scale="0.03937 0.03937 0.03937"/>
      </geometry>
    </collision>
  </link>
  <link name="LForearm">
    <inertial>
      <origin rpy="0 0 0" xyz="0 0 -0.085"/>
      <mass value="0.263"/>
      <inertia ixx="6.913E-4" ixy="0.0" ixz="0.0" iyy="6.913E-4" iyz="0.0" izz="4.0425E-5"/>
    </inertial>
  </link>
  <link name="RElb">
    <inertial>
      <origin rpy="0 0 0" xyz="-6.5553403E-4 -9.3464748E-4 -9.3101289E-4"/>
      <mass value="0.63306933"/>
      <inertia ixx="2.2599075E-4" ixy="-2.6376470E-7" ixz="-9.8007285E-6" iyy="2.7781302E-4" iyz="-2.0435288E-6" izz="2.1878992E-4"/>
    </inertial>
    <visual>
      <origin rpy="0 0 -3.14159265359" xyz="-0.020305 -0.1558 -0.664329"/>
      <geometry name="RElb_visual">
        <mesh filename="package://coman_urdf/meshes/collada/asm0001_collada_11_prt.dae" scale="0.03937 0.03937 0.03937"/>
      </geometry>
    </visual>
    <collision>
      <origin rpy="0 0 -3.14159265359" xyz="-0.020305 -0.1558 -0.664329"/>
      <geometry name="RElb_collision">
        <mesh filename="package://coman_urdf/meshes/collada/simple/simple_asm0001_collada_11_prt.stl" scale="0.03937 0.03937 0.03937"/>
      </geometry>
    </collision>
  </link>
  <link name="RForearm">
    <inertial>
      <origin rpy="0 0 0" xyz="0 0 -0.085"/>
      <mass value="0.263"/>
      <inertia ixx="6.913E-4" ixy="0.0" ixz="0.0" iyy="6.913E-4" iyz="0.0" izz="4.0425E-5"/>
    </inertial>
  </link>
  <joint name="LForearmPlate" type="fixed">
    <parent link="LElb"/>
    <child link="LForearm"/>
    <origin rpy="0 0 0" xyz="-0.015 0.0 -0.05"/>
  </joint>
  <joint name="RForearmPlate" type="fixed">
    <parent link="RElb"/>
    <child link="RForearm"/>
    <origin rpy="0 0 0" xyz="-0.015 0.0 -0.05"/>
  </joint>
  <!-- ************ HANDS ************ -->
  <joint name="l_wrist_joint" type="fixed">
    <parent link="LElb"/>
    <child link="l_wrist"/>
    <origin rpy="0 0 0" xyz="-0.015 0 -0.22"/>
  </joint>
  <joint name="r_wrist_joint" type="fixed">
    <parent link="RElb"/>
    <child link="r_wrist"/>
    <origin rpy="0 0 0" xyz="-0.015 0 -0.22"/>
  </joint>
  <!-- IMU -->
  <link name="imu_link">
    <inertial>
      <mass value="0.01"/>
      <origin xyz="0 0 0"/>
      <inertia ixx="1.0E-6" ixy="0" ixz="0" iyy="1.0E-6" iyz="0" izz="1.0E-6"/>
    </inertial>
    <visual>
      <origin rpy="0 0 0" xyz="0 0 0"/>
      <geometry>
        <box size="0.01 0.01 0.01"/>
      </geometry>
    </visual>
  </link>
  <joint name="imu_joint" type="fixed">
    <parent link="Waist"/>
    <child link="imu_link"/>
    <origin rpy="0 3.14159 0" xyz="-0.072 -0.0068 0.044"/>
  </joint>
</robot>
